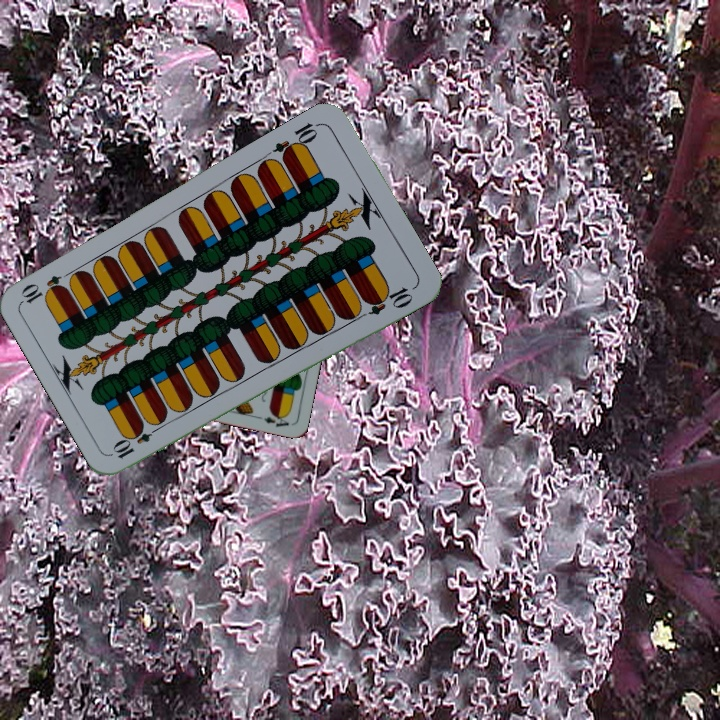E10: (269, 118, 323, 163), (110, 420, 164, 462)
